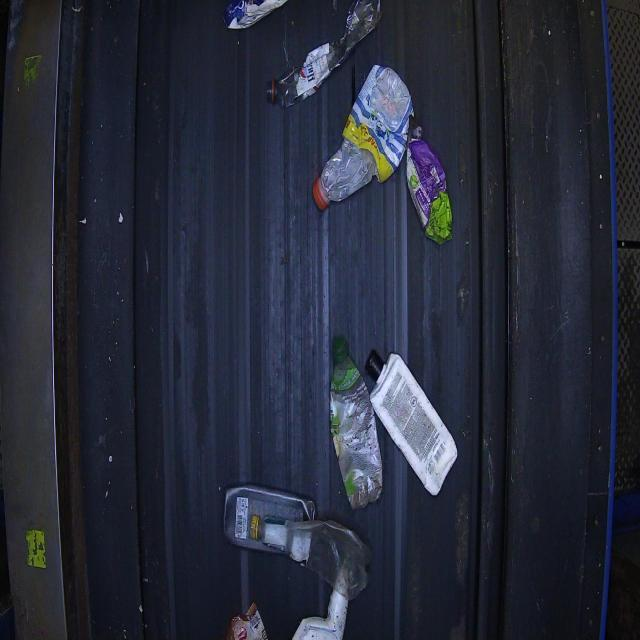cardboard: (368, 351, 458, 496)
other-trash: (311, 63, 414, 211), (327, 334, 383, 509)
